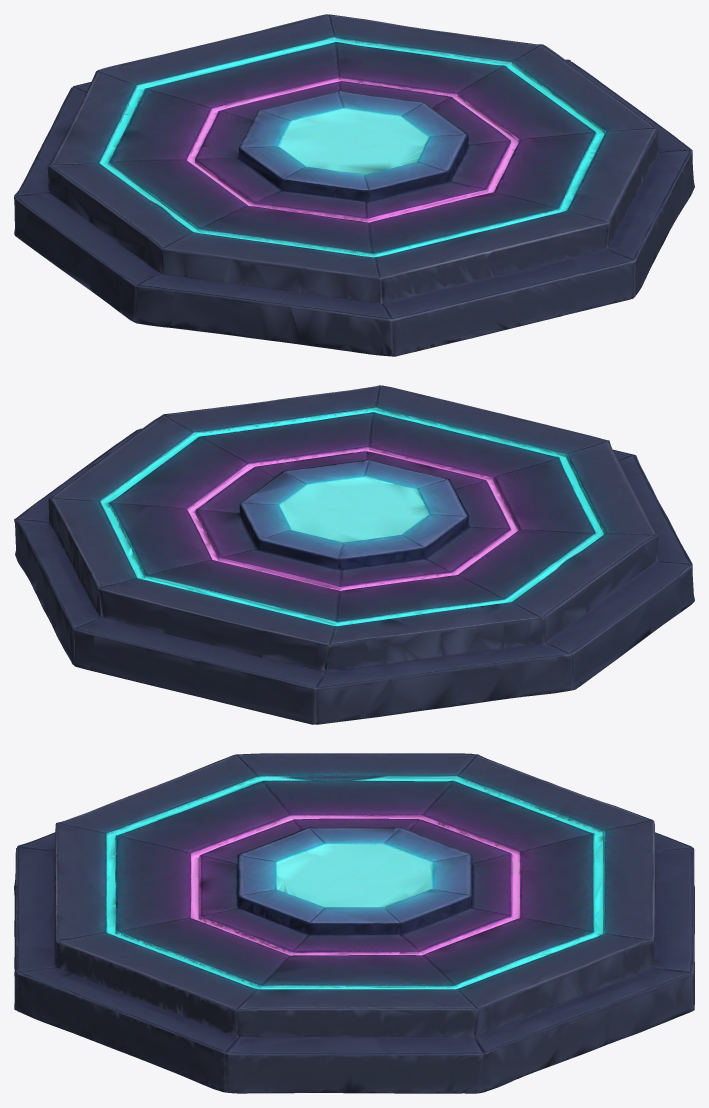
File: cell-pad.glb
3 renders of one model, top to bottom at view 1: azimuth 30°, elevation 25°; view 2: azimuth 150°, elevation 25°; view 3: azimuth 270°, elevation 25°, orthographic. The views are drawn at different scales.
Visible parts, largest first — view 1: mesh_node; view 2: mesh_node; view 3: mesh_node.
Part boxes in pixels (x1,y1,x2,y2): mesh_node: (14,14,694,356); mesh_node: (14,385,694,724); mesh_node: (14,753,694,1093).
Size of the model in its own units: 62366 by 7469 by 61841.
1 material, 1 textured.
